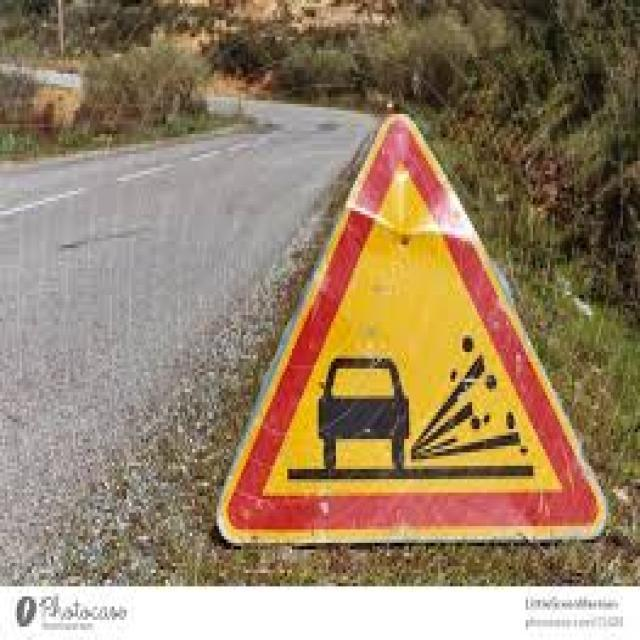loose gravel: (212, 117, 605, 539)
